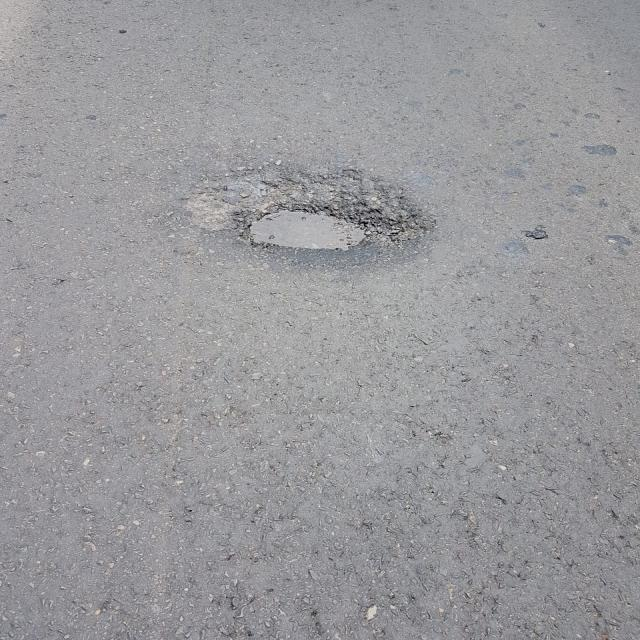Buraco: (177, 160, 440, 256)
